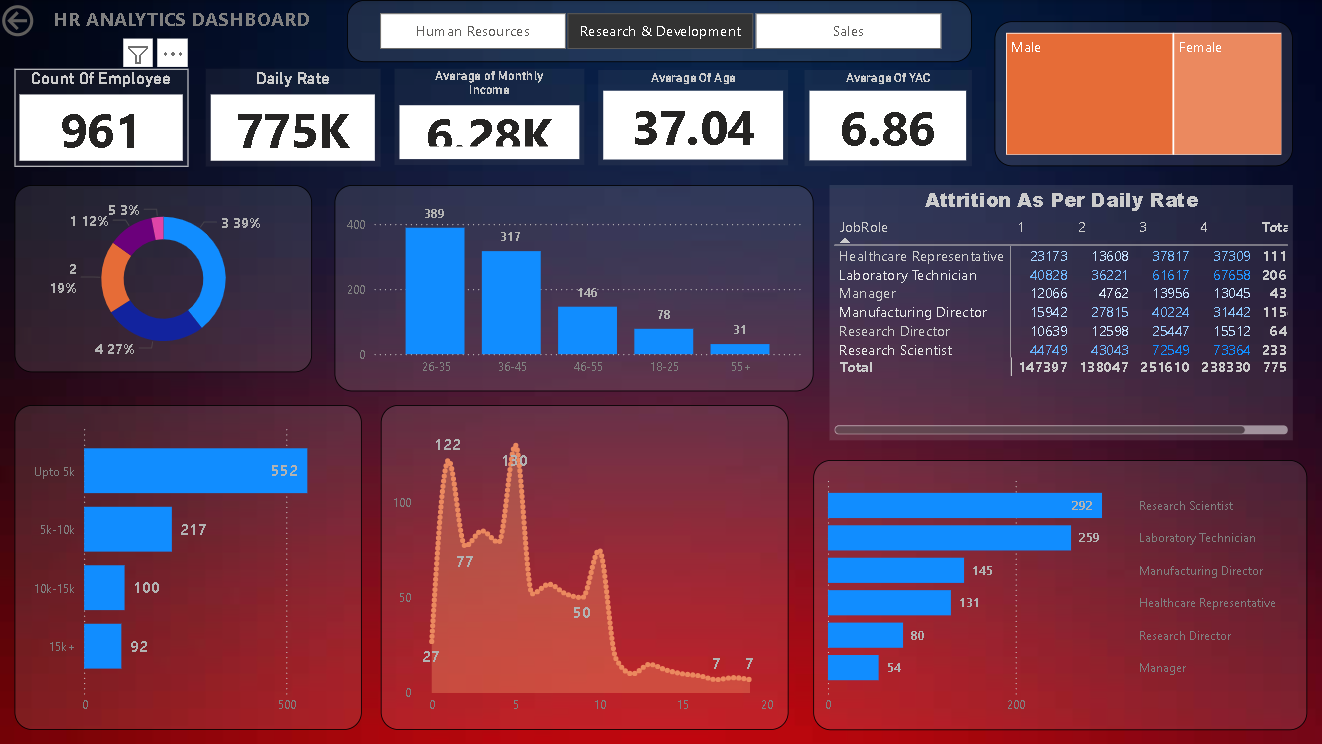

What the dashboard file says about the page in this screenshot:
{"tool":"powerbi","page":{"name":"Page 1","canvas":[1280,720],"ordinal":0},"visuals":[{"type":"cardVisual","title":"Count Of Employee","fields":{"Data":["CountNonNull(HR_Analytics.EmpID)"]},"box":[16.9,66.4,167.7,94.1],"z":0},{"type":"cardVisual","title":"Daily Rate","fields":{"Data":["Sum(HR_Analytics.DailyRate)"]},"box":[201.5,66.4,168.9,94.1],"z":1},{"type":"cardVisual","title":"Average Of Age","fields":{"Data":["Avg(HR_Analytics.Age)"]},"box":[580.3,67.6,183.4,91.7],"z":2},{"type":"cardVisual","title":"Average of Monthly Income","fields":{"Data":["Avg(HR_Analytics.MonthlyIncome)"]},"box":[383.6,66.4,183.4,92.9],"z":3},{"type":"cardVisual","title":"Average Of YAC","fields":{"Data":["Avg(HR_Analytics.YearsAtCompany)"]},"box":[779.4,67.6,161.7,92.9],"z":4},{"type":"donutChart","title":" Attrition by Education","fields":{"Category":["HR_Analytics.Education"],"Y":["CountNonNull(HR_Analytics.Attrition_Value)"]},"box":[16.9,178.6,287.1,181],"z":5},{"type":"columnChart","title":" Attrition by Age","fields":{"Category":["HR_Analytics.AgeGroup"],"Y":["CountNonNull(HR_Analytics.Attrition_Value)"]},"box":[325.7,178.6,462.1,199.1],"z":6},{"type":"pivotTable","title":"Attrition As Per Daily Rate","fields":{"Rows":["HR_Analytics.JobRole"],"Columns":["HR_Analytics.JobSatisfaction"],"Values":["Sum(HR_Analytics.DailyRate)"]},"box":[803.5,178.6,447.6,246.1],"z":7},{"type":"actionButton","box":[0,0,100,40],"z":8},{"type":"barChart","title":" Attrition by Age","fields":{"Category":["HR_Analytics.SalarySlab"],"Y":["CountNonNull(HR_Analytics.Attrition_Value)"]},"box":[16.9,390.9,335.4,313.7],"z":9},{"type":"barChart","title":" Attrition by Age","fields":{"Y":["CountNonNull(HR_Analytics.Attrition_Value)"],"Category":["HR_Analytics.JobRole"]},"box":[787.8,444,476.5,260.6],"z":10},{"type":"areaChart","title":" Attrition by Age","fields":{"Category":["HR_Analytics.YearsAtCompany"],"Y":["CountNonNull(HR_Analytics.Attrition_Value)"]},"box":[370.4,390.9,393.3,313.7],"z":11},{"type":"treemap","title":" Attrition by Age","fields":{"Group":["HR_Analytics.Gender"],"Values":["CountNonNull(HR_Analytics.Attrition_Value)"]},"box":[962.7,20.5,288.3,139.9],"z":12},{"type":"slicer","fields":{"Values":["HR_Analytics.Department"]},"box":[337.8,0,603.2,60.3],"z":13},{"type":"textbox","box":[50.1,0,320.4,40],"z":14}]}

Visuals, with their boxes in screenshot pixels (x1, y1, x2, y2), scaled from the page's 1280x720 canvas onto the 1322x744 screenshot:
"Count Of Employee" cardVisual: bbox(17, 69, 191, 166)
"Daily Rate" cardVisual: bbox(208, 69, 383, 166)
"Average Of Age" cardVisual: bbox(599, 70, 789, 165)
"Average of Monthly Income" cardVisual: bbox(396, 69, 586, 165)
"Average Of YAC" cardVisual: bbox(805, 70, 972, 166)
" Attrition by Education" donutChart: bbox(17, 185, 314, 372)
" Attrition by Age" columnChart: bbox(336, 185, 814, 390)
"Attrition As Per Daily Rate" pivotTable: bbox(830, 185, 1292, 439)
actionButton: bbox(0, 0, 103, 41)
" Attrition by Age" barChart: bbox(17, 404, 364, 728)
" Attrition by Age" barChart: bbox(814, 459, 1306, 728)
" Attrition by Age" areaChart: bbox(383, 404, 789, 728)
" Attrition by Age" treemap: bbox(994, 21, 1292, 166)
slicer - HR_Analytics.Department: bbox(349, 0, 972, 62)
textbox: bbox(52, 0, 383, 41)
